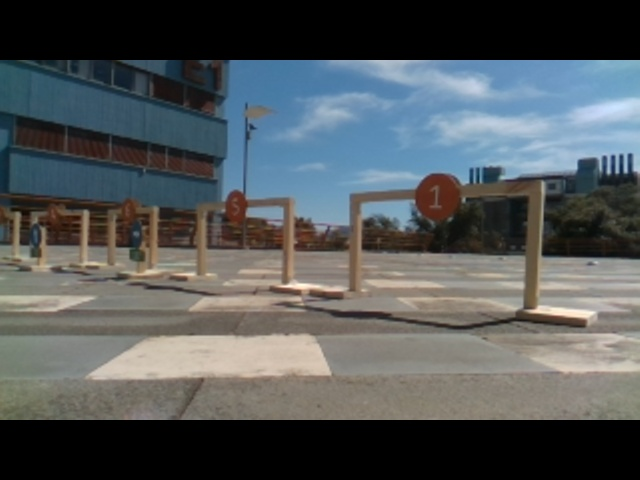checkpoint_foot: (513, 302, 600, 327), (308, 281, 372, 300), (168, 268, 218, 281), (268, 279, 313, 293)
checkpoint_side: (521, 176, 546, 305), (347, 189, 364, 293), (279, 194, 296, 284), (194, 198, 207, 273), (78, 206, 91, 263), (105, 206, 117, 263), (147, 204, 157, 263)
checkpoint_signal: (346, 178, 547, 204), (187, 188, 297, 210), (106, 206, 160, 215)
five: (223, 189, 247, 220)
one: (415, 172, 463, 221)
